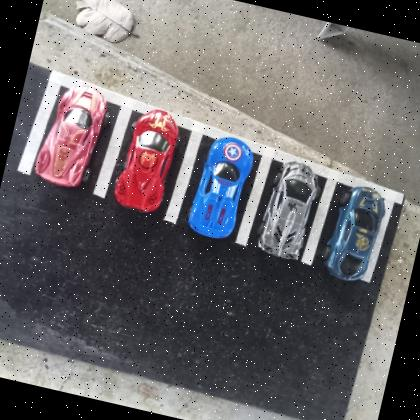Car: (30, 77, 115, 191), (110, 104, 182, 216), (186, 130, 258, 241), (318, 180, 388, 284), (254, 156, 323, 261)
